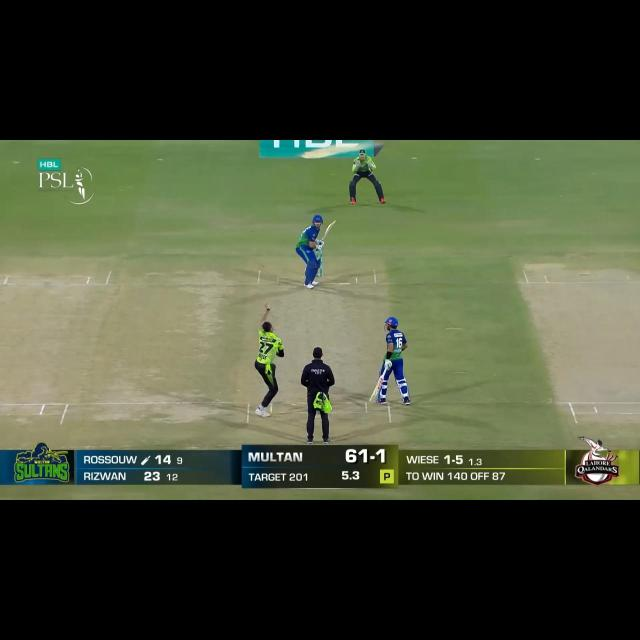bat: (368, 375, 384, 403), (322, 220, 336, 240)
toe: (368, 396, 376, 403), (330, 220, 336, 226)
